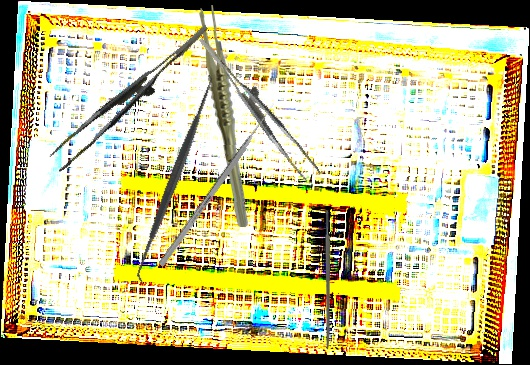Pusher: (158, 101, 277, 268)
Scalpel Handle: (325, 210, 331, 349)
Spatula Surgical: (124, 72, 225, 286)
Tissue Forceps: (36, 24, 229, 173), (198, 21, 322, 192), (194, 4, 254, 228)
